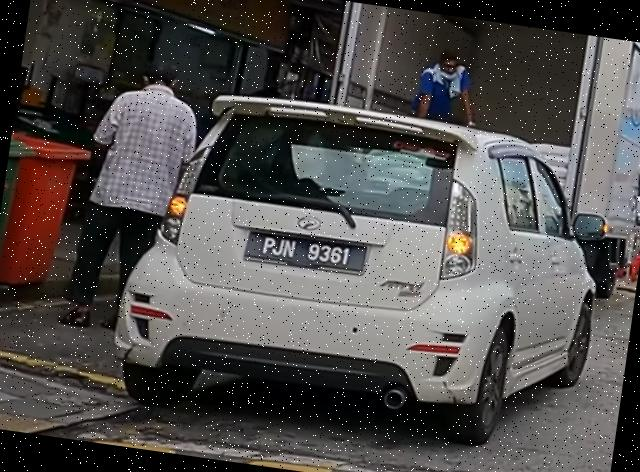License_Plate: (242, 228, 370, 279)
car: (104, 78, 625, 467)
